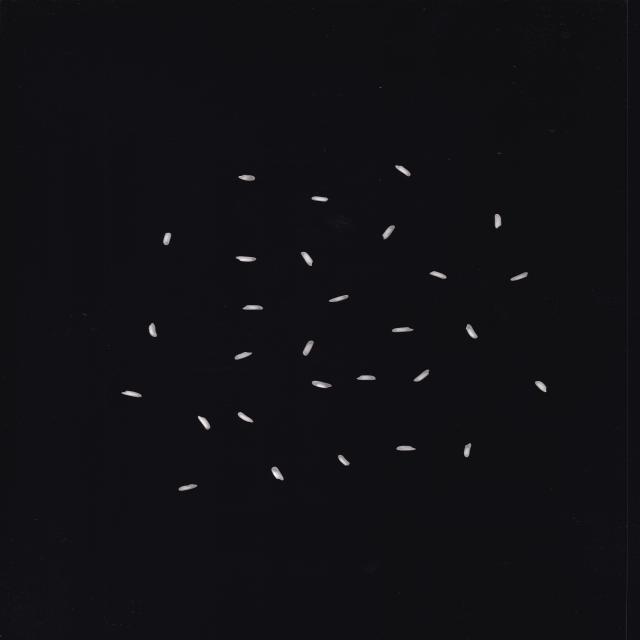Chalky: (382, 224, 396, 240), (414, 369, 431, 382), (464, 324, 478, 339), (395, 165, 412, 177), (300, 252, 314, 266), (271, 466, 285, 480), (303, 340, 315, 356), (237, 412, 254, 423), (198, 416, 211, 430), (329, 294, 351, 302), (510, 272, 529, 281), (121, 390, 142, 398), (534, 381, 548, 393), (429, 271, 447, 280), (148, 322, 158, 338), (234, 352, 253, 360), (312, 381, 333, 388), (338, 454, 350, 466), (178, 484, 198, 491), (463, 443, 472, 458), (235, 256, 257, 262), (356, 375, 376, 381), (238, 174, 255, 181), (242, 305, 265, 310), (494, 214, 502, 228), (391, 327, 413, 332), (310, 196, 328, 202), (163, 233, 172, 245), (396, 446, 416, 451)
